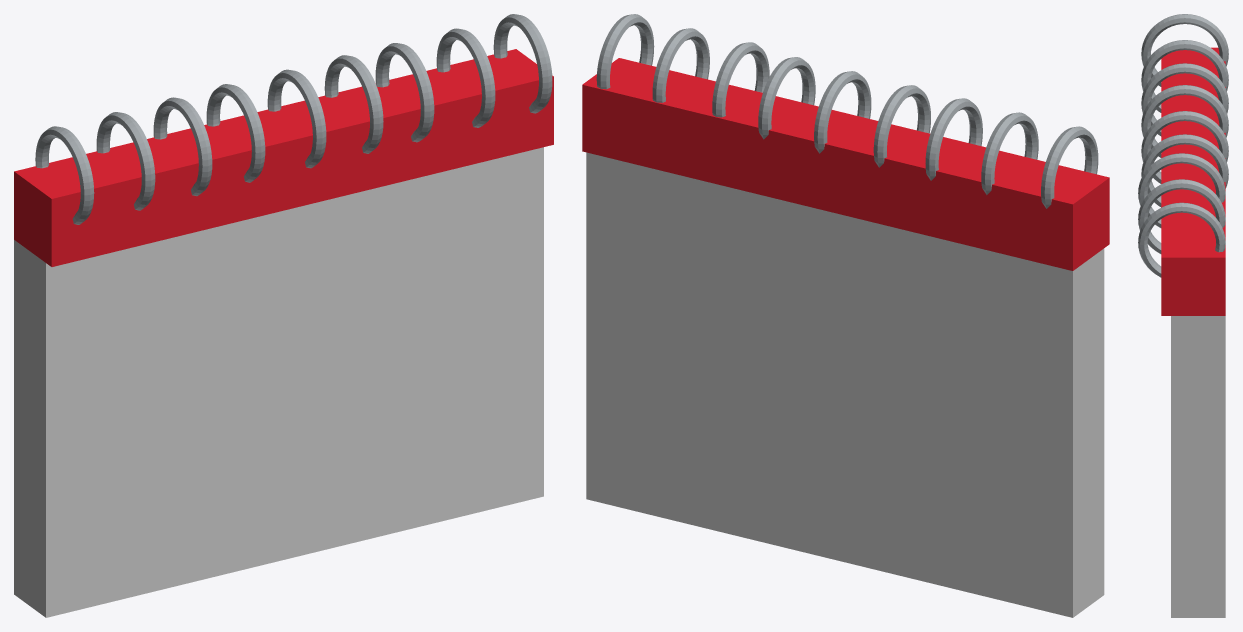
File: Calendario.obj
3 renders of one model, left to right at view 1: azimuth 30°, elevation 25°; view 2: azimuth 150°, elevation 25°; view 3: azimuth 270°, elevation 25°, orthographic. The views are drawn at different scales.
Parts seen in each view (by area): view 1: obj_1, obj_0, obj_9, obj_8, obj_10, obj_3, obj_2, obj_5, obj_4, obj_6, obj_7; view 2: obj_1, obj_0, obj_2, obj_4, obj_6, obj_5, obj_10, obj_3, obj_7, obj_8, obj_9; view 3: obj_1, obj_0, obj_8, obj_10, obj_9, obj_3, obj_6, obj_4, obj_7, obj_2, obj_5.
Part boxes in pixels (<box>): obj_1: <box>14,147,543,617</box>; obj_0: <box>14,49,553,266</box>; obj_9: <box>375,43,434,142</box>; obj_8: <box>493,14,552,113</box>; obj_10: <box>436,28,495,127</box>; obj_3: <box>206,84,265,182</box>; obj_2: <box>324,55,383,153</box>; obj_5: <box>153,97,212,196</box>; obj_4: <box>267,69,326,168</box>; obj_6: <box>35,126,94,224</box>; obj_7: <box>96,112,155,210</box>; obj_1: <box>586,152,1104,617</box>; obj_0: <box>582,58,1109,270</box>; obj_2: <box>758,57,815,139</box>; obj_4: <box>814,71,871,153</box>; obj_6: <box>1041,126,1098,208</box>; obj_5: <box>925,98,982,180</box>; obj_10: <box>652,28,709,102</box>; obj_3: <box>873,85,930,167</box>; obj_7: <box>981,112,1038,194</box>; obj_8: <box>596,14,654,89</box>; obj_9: <box>712,42,769,117</box>; obj_1: <box>1171,316,1225,617</box>; obj_0: <box>1161,47,1225,315</box>; obj_8: <box>1138,202,1225,277</box>; obj_10: <box>1138,179,1225,253</box>; obj_9: <box>1138,153,1225,227</box>; obj_3: <box>1141,85,1228,157</box>; obj_6: <box>1141,14,1228,86</box>; obj_4: <box>1141,111,1228,183</box>; obj_7: <box>1141,40,1228,112</box>; obj_2: <box>1141,134,1228,207</box>; obj_5: <box>1141,63,1228,136</box>.
Bounding box in the file's own units: 154 × 140 × 28.16.
